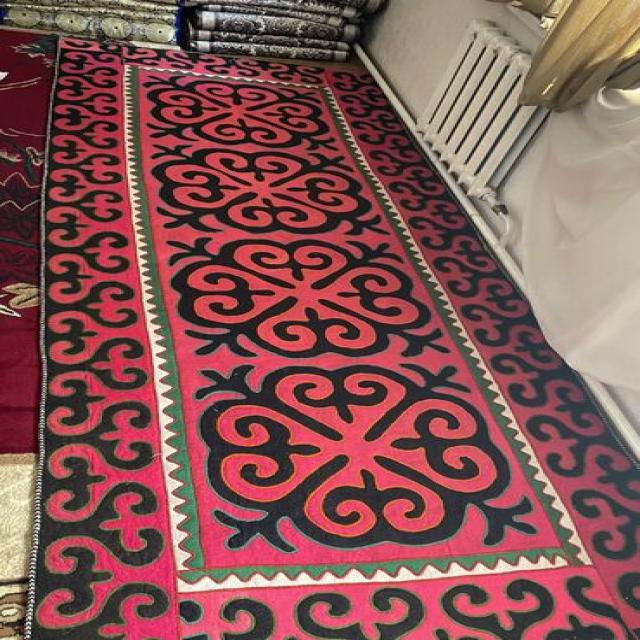Unity: (188, 361, 554, 557), (163, 239, 456, 363), (149, 144, 394, 238), (141, 72, 344, 154)
